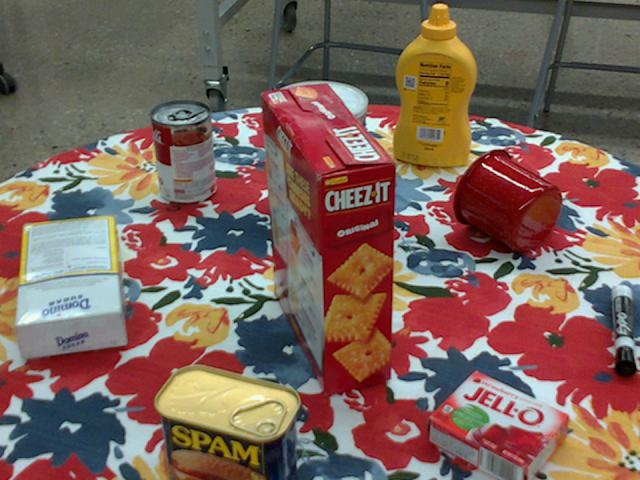cracker_box: (260, 86, 392, 396)
gelatin_box: (427, 370, 570, 479)
large_marker: (612, 282, 636, 373)
master_chef_can: (270, 80, 367, 237)
mug: (452, 148, 562, 251)
mustard_bottle: (393, 5, 475, 166)
potted_meat_can: (150, 366, 297, 479)
sugar_box: (15, 218, 125, 357)
tomato_soup_can: (150, 100, 215, 204)
tuna_fish_can: (269, 117, 336, 169)
